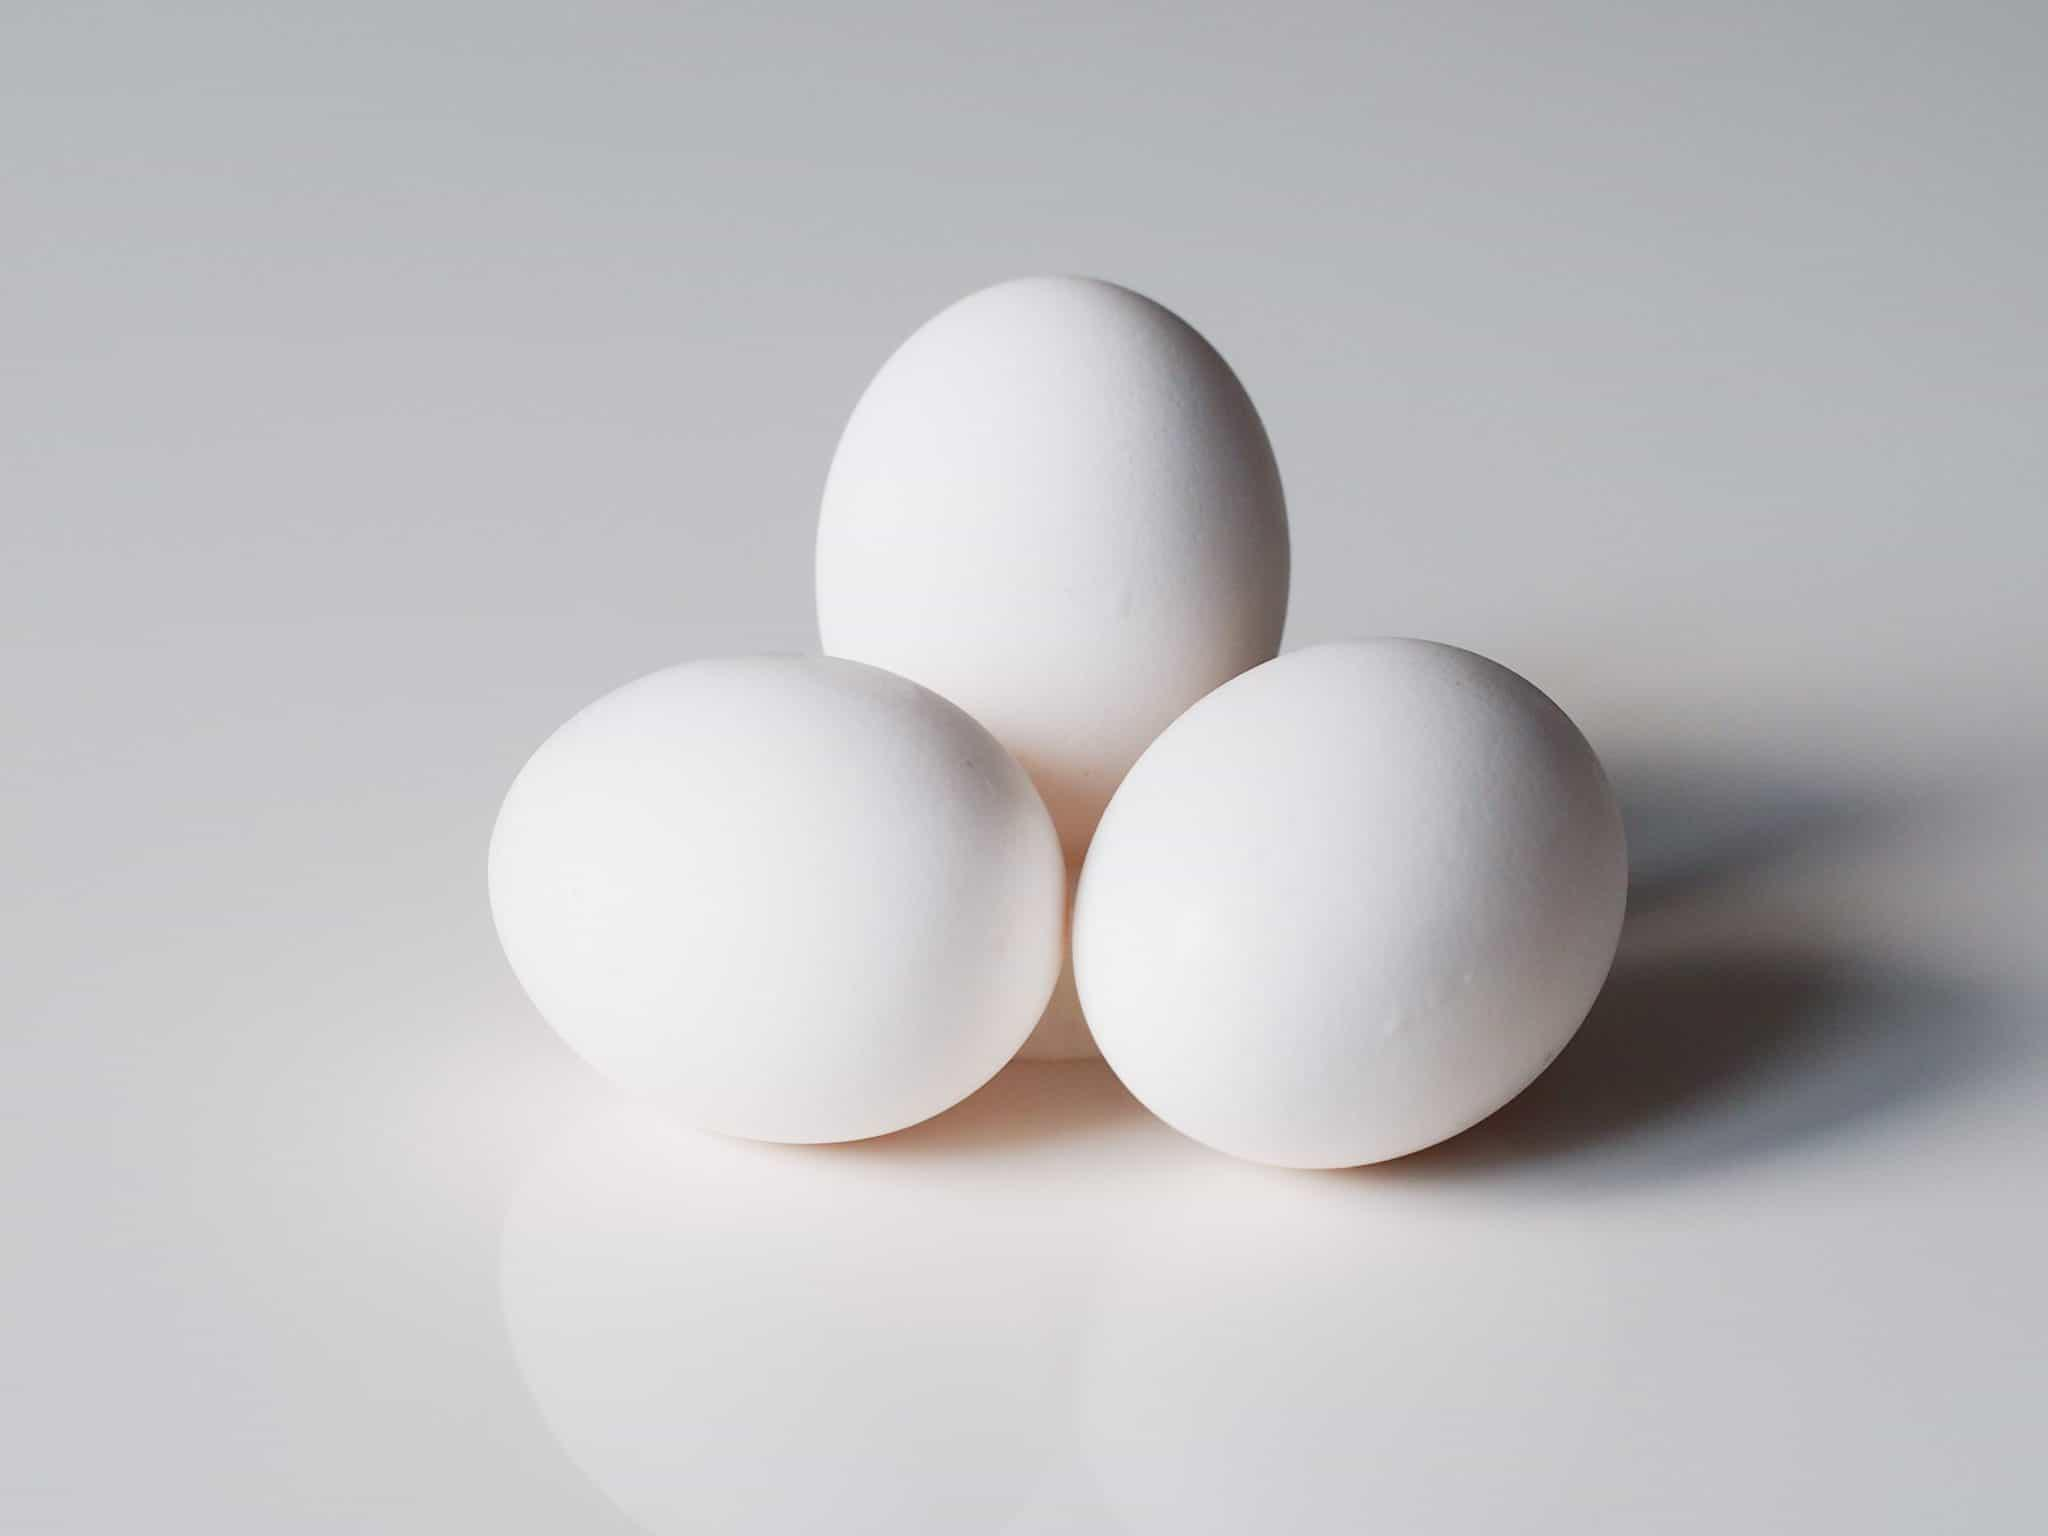egg: (1061, 629, 1637, 1178), (476, 642, 1082, 1162), (808, 265, 1298, 866)
